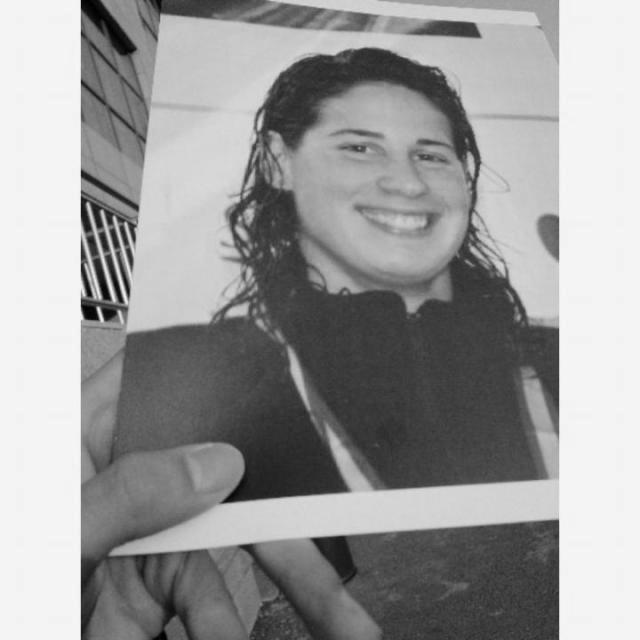fake: (98, 0, 558, 566)
